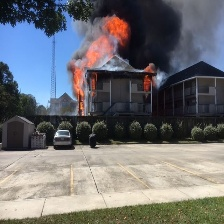fire: (68, 15, 155, 112)
smoke: (111, 1, 218, 68)
